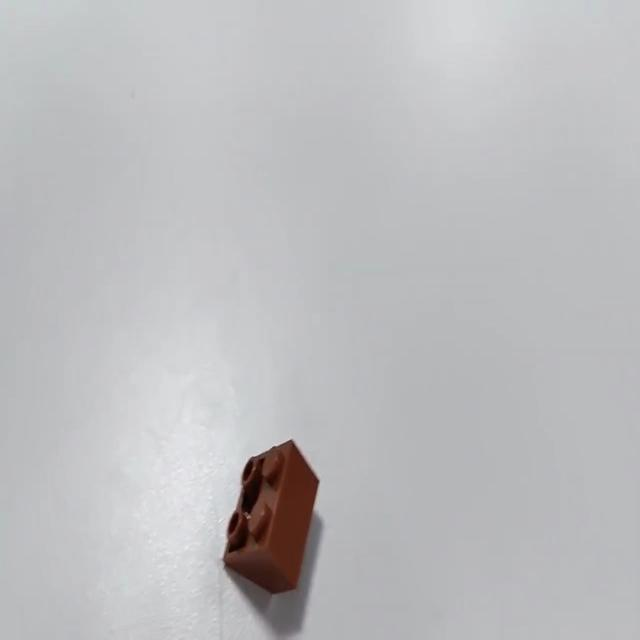X2x2x1: (222, 436, 320, 596)
